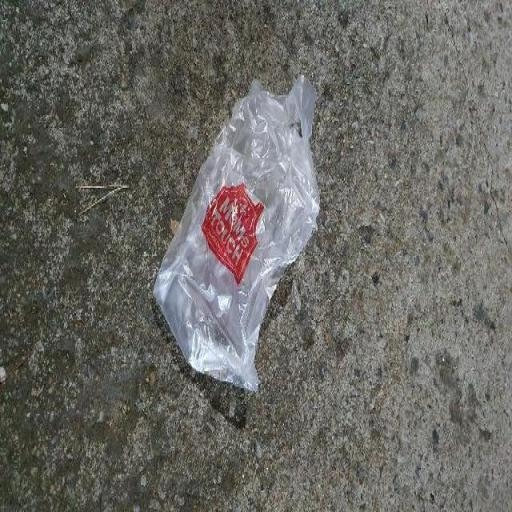plastic-bag: (153, 71, 322, 399)
